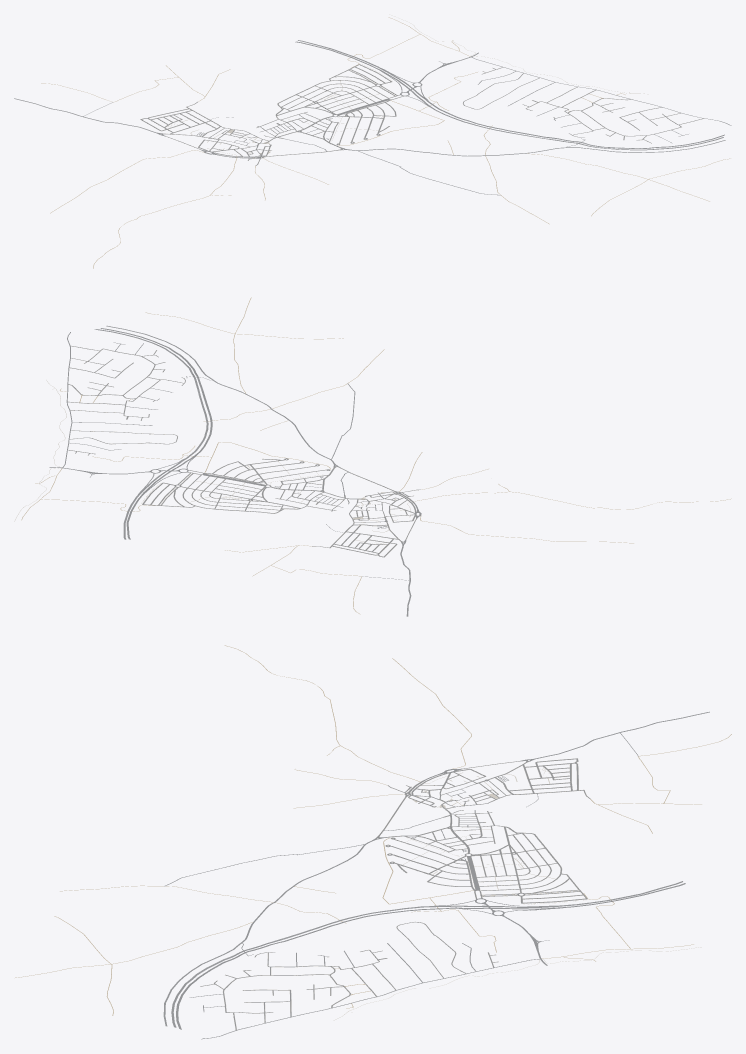
File: almensilla_roads.glb
The picture shows the model from 3 angles, top to bottom: view 1: azimuth 30°, elevation 25°; view 2: azimuth 150°, elevation 25°; view 3: azimuth 270°, elevation 25°; orthographic projection. The views are drawn at different scales.
Visible parts, largest first — view 1: ROAD_carriageway_1_1, ROAD_carriageway_2_1, ROAD_carriageway_-1_0, ROAD_carriageway_0_0, ROAD_carriageway_-1_1; view 2: ROAD_carriageway_1_1, ROAD_carriageway_2_1, ROAD_carriageway_-1_0; view 3: ROAD_carriageway_2_1, ROAD_carriageway_1_1, ROAD_carriageway_-1_0, ROAD_carriageway_0_0, ROAD_sidewalk_1_1, ROAD_carriageway_-1_1.
Boxes of the visible parts, left/top/right/bottom form: ROAD_carriageway_1_1: left=294, top=80, right=383, bottom=118; ROAD_carriageway_2_1: left=354, top=70, right=425, bottom=103; ROAD_carriageway_-1_0: left=209, top=135, right=292, bottom=165; ROAD_carriageway_0_0: left=269, top=119, right=354, bottom=154; ROAD_carriageway_-1_1: left=171, top=115, right=261, bottom=144; ROAD_carriageway_1_1: left=183, top=474, right=279, bottom=511; ROAD_carriageway_2_1: left=131, top=463, right=214, bottom=498; ROAD_carriageway_-1_0: left=348, top=483, right=420, bottom=515; ROAD_carriageway_2_1: left=467, top=885, right=555, bottom=923; ROAD_carriageway_1_1: left=467, top=846, right=555, bottom=885; ROAD_carriageway_-1_0: left=388, top=772, right=467, bottom=811; ROAD_carriageway_0_0: left=379, top=811, right=467, bottom=848; ROAD_sidewalk_1_1: left=467, top=847, right=554, bottom=885; ROAD_carriageway_-1_1: left=467, top=772, right=555, bottom=811.
Bounding box in the file's own units: 5228 × 52.16 × 4074.
